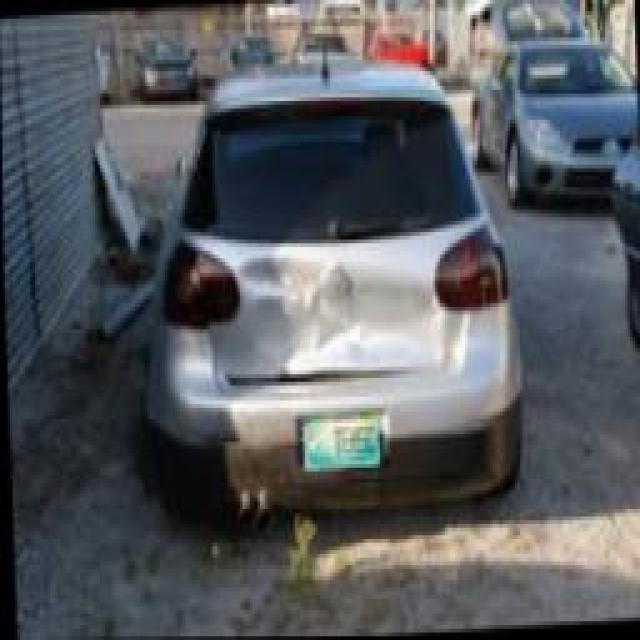Dickey: (177, 105, 474, 386)
